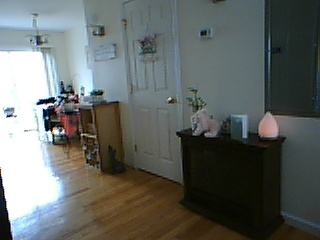piggy: (191, 108, 223, 139)
